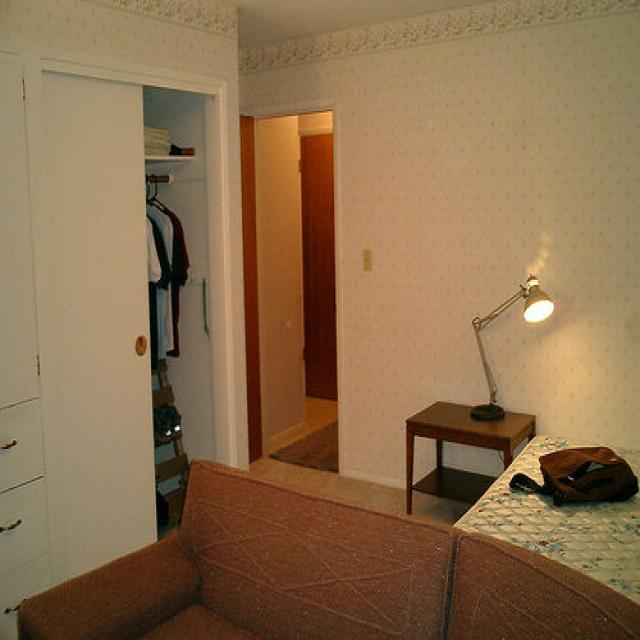sofa: (14, 459, 640, 640)
